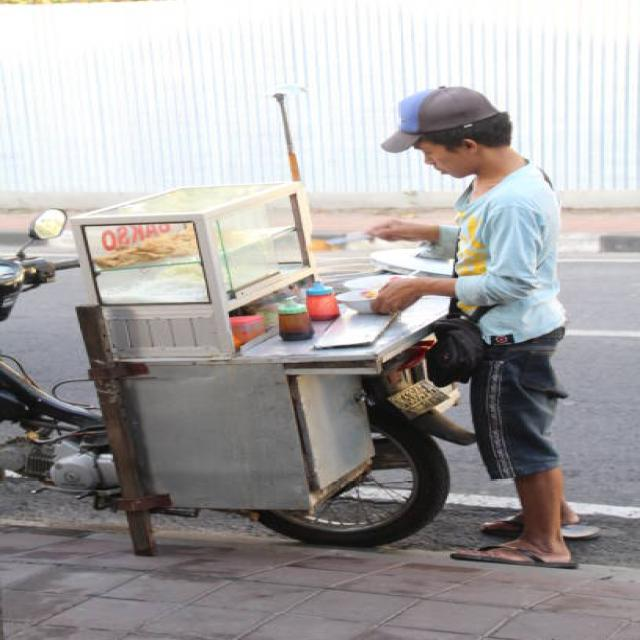Emperan: (0, 73, 605, 586)
